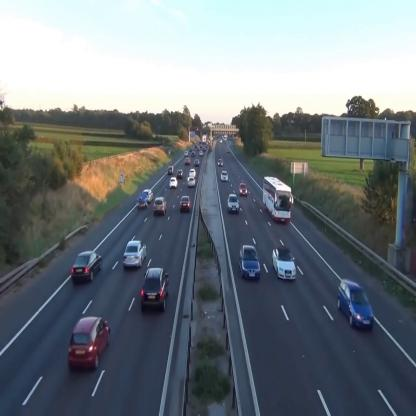car: (68, 316, 111, 369), (338, 278, 374, 329), (141, 268, 169, 310), (71, 250, 102, 283), (273, 247, 296, 281), (123, 239, 147, 269), (240, 245, 260, 281), (154, 197, 166, 216), (228, 194, 239, 213), (180, 195, 191, 211), (238, 182, 248, 196), (143, 189, 153, 202), (221, 169, 228, 182), (170, 177, 178, 187), (189, 168, 196, 178), (176, 169, 184, 177), (188, 178, 195, 186), (168, 165, 174, 174), (218, 158, 223, 166)
lorry: (264, 177, 294, 225)
